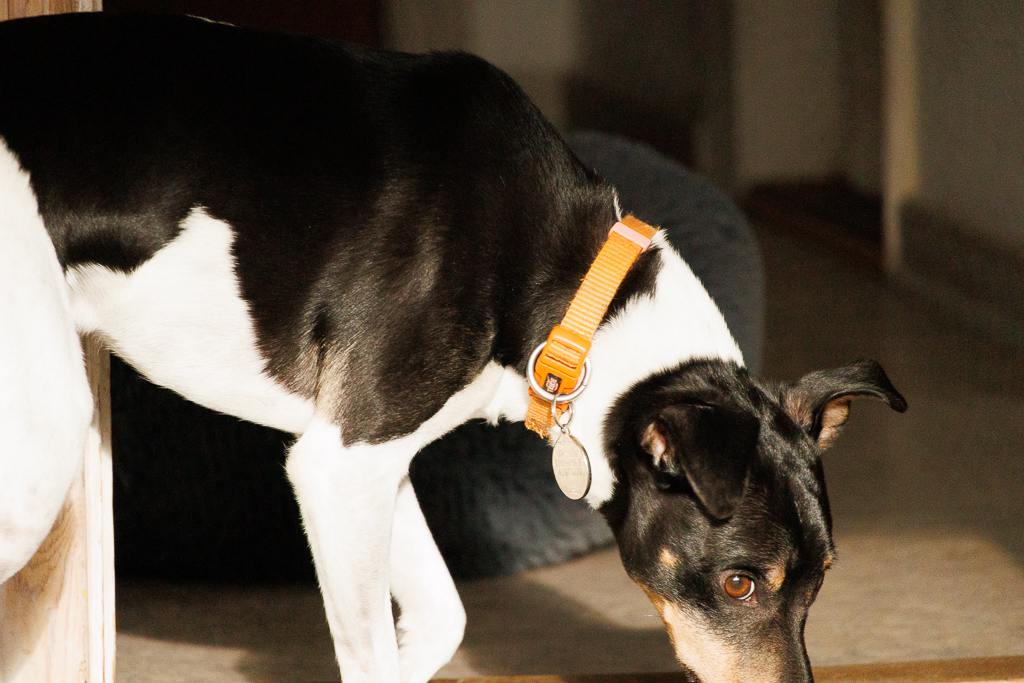Dog: (0, 7, 917, 683)
